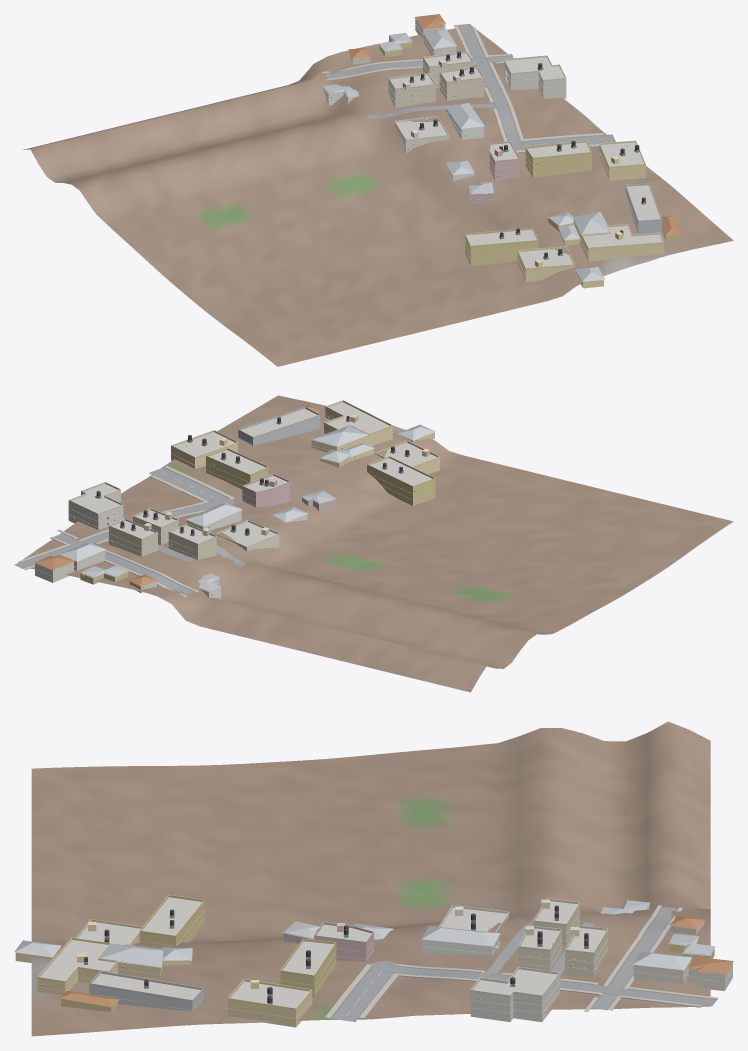
3 views of the same model, one above another, from view 1: azimuth 30°, elevation 25°; view 2: azimuth 150°, elevation 25°; view 3: azimuth 270°, elevation 25° (orthographic). The views are drawn at different scales.
Visible parts, largest first — view 1: Terrain-col, Buildings-col, Details, Roads-col, Sidewalks-col; view 2: Terrain-col, Buildings-col, Details, Roads-col, Sidewalks-col; view 3: Terrain-col, Buildings-col, Details, Roads-col, Sidewalks-col.
Boxes of the visible parts, bbox=[...] form: Terrain-col: bbox=[23, 25, 733, 366]; Buildings-col: bbox=[323, 14, 680, 288]; Details: bbox=[324, 23, 664, 276]; Roads-col: bbox=[325, 24, 615, 150]; Sidewalks-col: bbox=[321, 24, 604, 152]; Terrain-col: bbox=[17, 395, 733, 692]; Buildings-col: bbox=[34, 402, 439, 598]; Details: bbox=[35, 400, 440, 597]; Roads-col: bbox=[14, 467, 246, 595]; Sidewalks-col: bbox=[18, 466, 233, 596]; Terrain-col: bbox=[31, 721, 710, 1036]; Buildings-col: bbox=[14, 897, 733, 1027]; Details: bbox=[37, 894, 733, 1019]; Roads-col: bbox=[330, 907, 716, 1021]; Sidewalks-col: bbox=[325, 905, 718, 1018].
Size of the model in its own units: 263 by 32.37 by 271.
